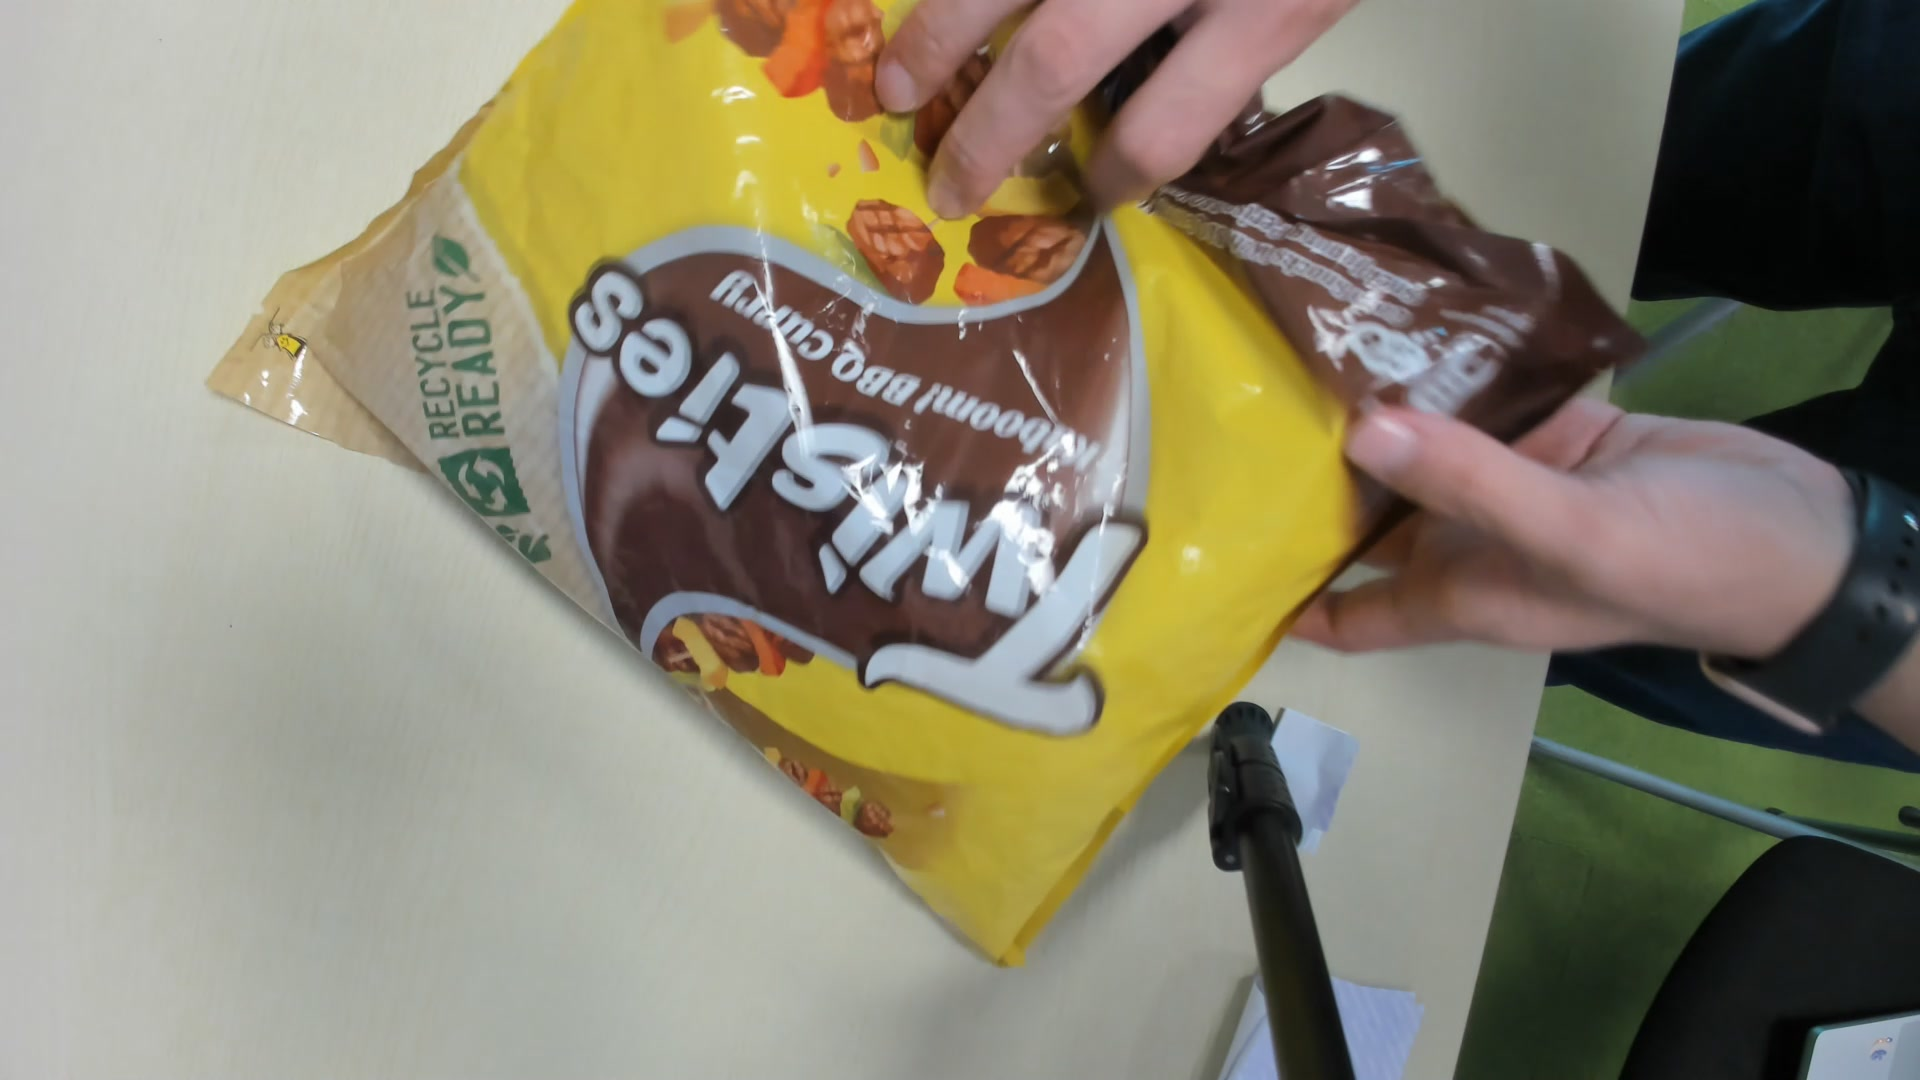PotatoChipsKeropok_0-99g_Halal_NonHealthy: (214, 1, 1636, 963)
